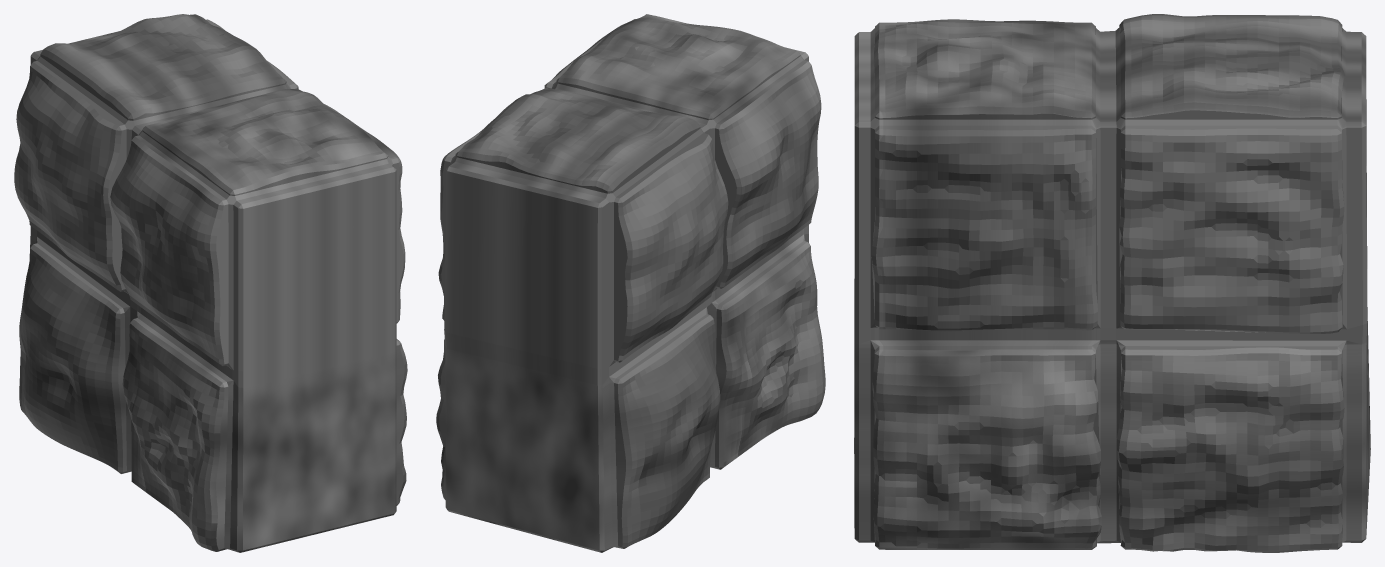
File: rockWall.gltf
The picture shows the model from 3 angles, left to right: view 1: azimuth 30°, elevation 25°; view 2: azimuth 150°, elevation 25°; view 3: azimuth 270°, elevation 25°; orthographic projection. The views are drawn at different scales.
Visible parts, largest first — view 1: Cube; view 2: Cube; view 3: Cube.
Boxes of the visible parts, bbox=[...] form: Cube: bbox=[14, 14, 407, 552]; Cube: bbox=[436, 14, 825, 552]; Cube: bbox=[854, 14, 1370, 552].
Size of the model in its own units: 2.91 by 4.53 by 4.67.
Materials: 1 (1 with a texture image).
